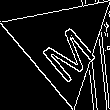M_NW: (29, 10, 94, 79)
